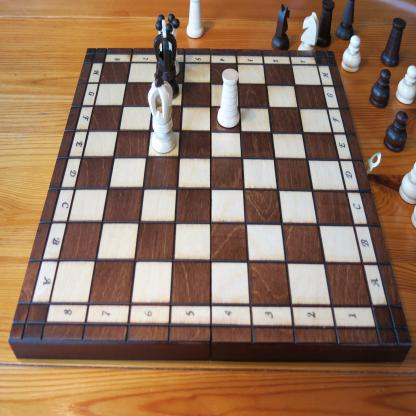black-bishop: (336, 0, 356, 41)
black-king: (153, 19, 179, 101)
black-knight: (271, 2, 291, 51)
black-pawn: (383, 110, 409, 153), (369, 68, 391, 109)
black-rook: (380, 17, 407, 67), (316, 0, 336, 48)
white-king: (148, 67, 176, 154)
white-knight: (217, 68, 240, 128), (297, 11, 320, 51)
white-pawn: (395, 64, 415, 106), (398, 161, 416, 205), (341, 34, 361, 73)
white-queen: (155, 13, 180, 77)
white-rook: (186, 0, 205, 39)
